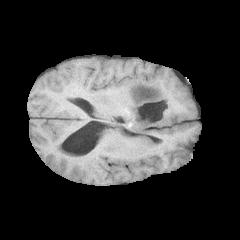glioma: (118, 76, 173, 134)
